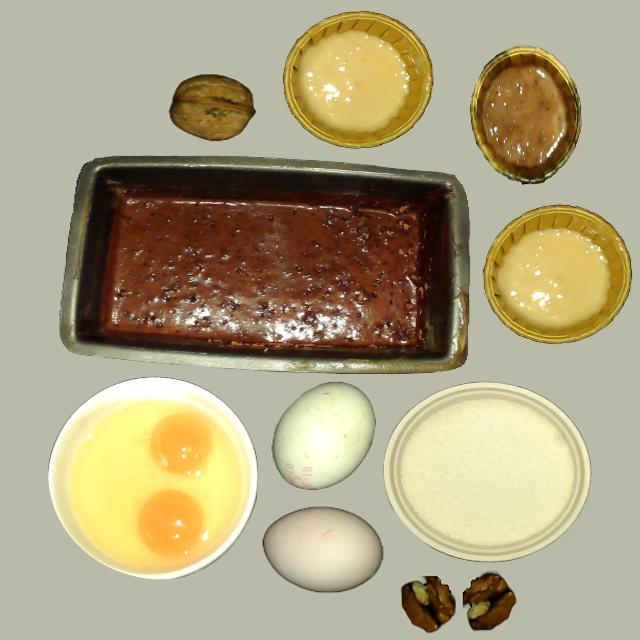Egg: (137, 490, 205, 557), (149, 414, 212, 476)
Sugar: (397, 396, 572, 551)
Walnut: (169, 74, 254, 141)
